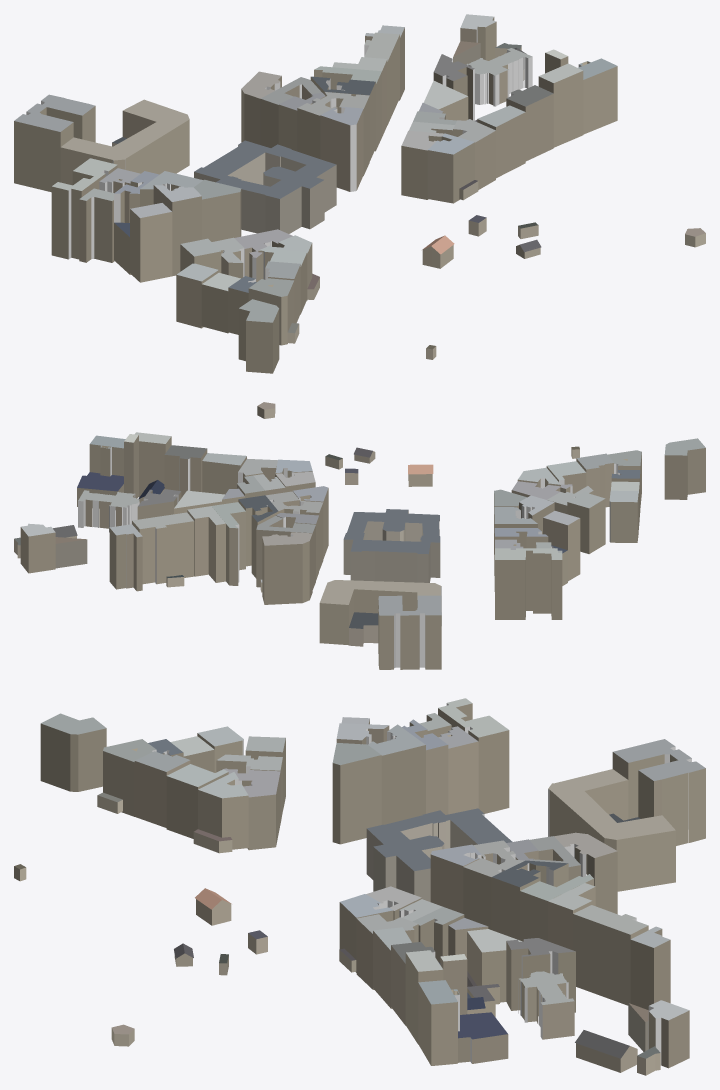
3 views of the same model, one above another, from view 1: azimuth 30°, elevation 25°; view 2: azimuth 150°, elevation 25°; view 3: azimuth 270°, elevation 25° (orthographic). The views are drawn at different scales.
Visible parts, largest first — view 1: tuile; view 2: tuile; view 3: tuile.
Part boxes in pixels (bbox=[...]): tuile: bbox=[14, 14, 705, 373]; tuile: bbox=[14, 402, 705, 669]; tuile: bbox=[14, 698, 705, 1075].
Size of the model in its own units: 270 by 41.04 by 260.
